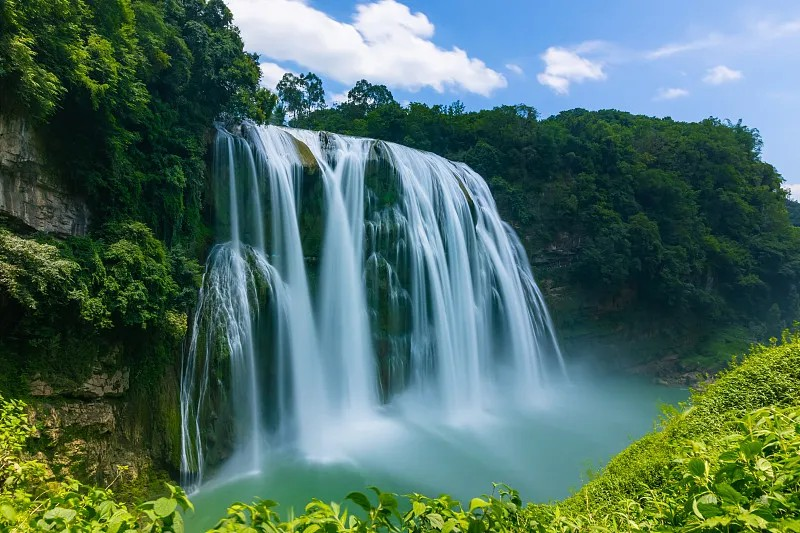Huangguoshu: (181, 119, 567, 483)
